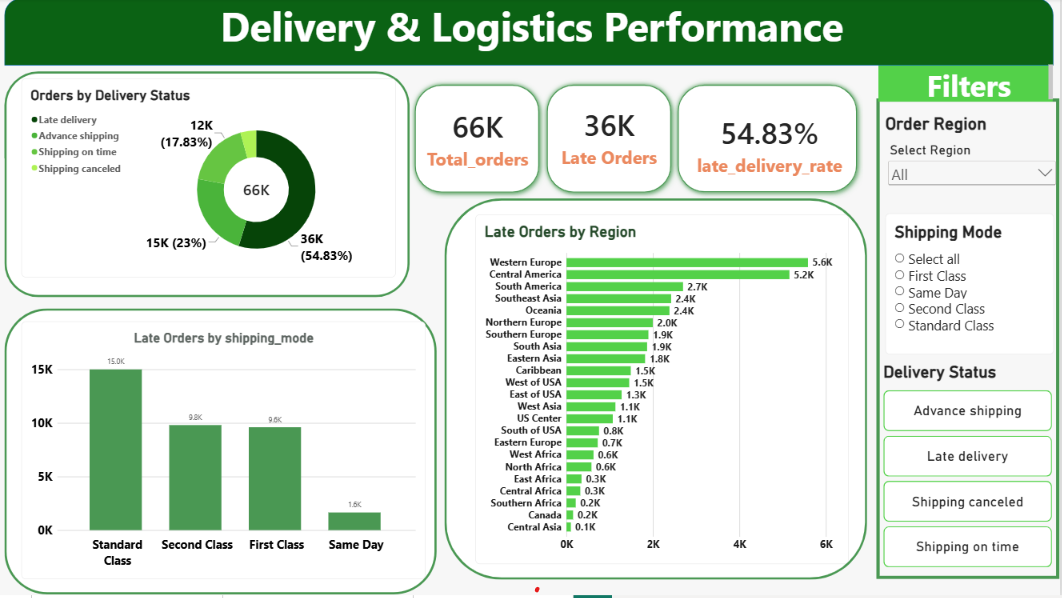

Layout of this report page (visuals, bound fields, positions):
{"tool":"powerbi","page":{"name":"Delivery_Performance","canvas":[1920,1080],"ordinal":3},"visuals":[{"type":"shape","title":"Filters","box":[1588.5,181.8,331.1,870],"z":0},{"type":"shape","box":[1592.5,120,315,67.5],"z":1000},{"type":"shape","box":[1217.5,145,347.5,217.5],"z":2000},{"type":"shape","box":[980.5,143.9,248.4,218.2],"z":3000},{"type":"shape","box":[11.6,132.3,733.5,408.5],"z":4000},{"type":"shape","box":[10.9,0,1898.3,121.2],"z":5000},{"type":"textbox","box":[10.9,0,1909.2,106.8],"z":6000},{"type":"shape","box":[742.8,143.9,248.4,218.2],"z":7000},{"type":"card","fields":{"Values":["supply_chain customers.Total_orders"]},"box":[757.4,175.9,218.2,150.9],"z":8000},{"type":"card","fields":{"Values":["supply_chain shipping.Late Orders"]},"box":[1002.4,173.2,205.6,150],"z":9000},{"type":"card","fields":{"Values":["supply_chain shipping.late_delivery_rate"]},"box":[1227.5,187.5,337.5,150],"z":10000},{"type":"shape","box":[11.6,561.7,782.2,517.6],"z":11000},{"type":"columnChart","fields":{"Category":["supply_chain shipping.shipping_mode"],"Y":["supply_chain shipping.Late Orders"]},"box":[41.8,584.9,731.2,466.5],"z":12000},{"type":"shape","box":[807.5,362.5,765,690],"z":13000},{"type":"barChart","title":"Late Orders by Region","fields":{"Category":["supply_chain orders.order_region"],"Y":["supply_chain shipping.Late Orders"]},"box":[862.5,390,675,632.5],"z":14000},{"type":"donutChart","title":"Orders by Delivery Status","fields":{"Category":["supply_chain shipping.delivery_status"],"Y":["supply_chain customers.Total_orders"]},"box":[41.8,143.9,677.8,359.8],"z":15000},{"type":"listSlicer","title":"Shipping Mode","fields":{"Values":["supply_chain shipping.shipping_mode"]},"box":[1605.8,389.5,305.1,255.4],"z":16000},{"type":"slicer","title":"Order Region","fields":{"Values":["supply_chain orders.order_region"]},"box":[1605.8,207.8,313.8,181.8],"z":17000},{"type":"advancedSlicerVisual","title":"Delivery Status","fields":{"Values":["supply_chain shipping.delivery_status"]},"box":[1601.5,657.9,305.1,374.4],"z":18000},{"type":"textbox","box":[1610,120,297.5,67.5],"z":19000}]}

Visuals, with their boxes in screenshot pixels (x1, y1, x2, y2), scaled from the page's 1920x1080 canvas onto the 1062x598 screenshot:
"Filters" shape: x1=879, y1=101, x2=1061, y2=582
shape: x1=881, y1=66, x2=1055, y2=104
shape: x1=673, y1=80, x2=866, y2=201
shape: x1=542, y1=80, x2=680, y2=200
shape: x1=6, y1=73, x2=412, y2=299
shape: x1=6, y1=0, x2=1056, y2=67
textbox: x1=6, y1=0, x2=1061, y2=59
shape: x1=411, y1=80, x2=548, y2=200
card - supply_chain customers.Total_orders: x1=419, y1=97, x2=540, y2=181
card - supply_chain shipping.Late Orders: x1=554, y1=96, x2=668, y2=179
card - supply_chain shipping.late_delivery_rate: x1=679, y1=104, x2=866, y2=187
shape: x1=6, y1=311, x2=439, y2=597
columnChart - supply_chain shipping.shipping_mode x supply_chain shipping.Late Orders: x1=23, y1=324, x2=428, y2=582
shape: x1=447, y1=201, x2=870, y2=583
"Late Orders by Region" barChart: x1=477, y1=216, x2=850, y2=566
"Orders by Delivery Status" donutChart: x1=23, y1=80, x2=398, y2=279
"Shipping Mode" listSlicer: x1=888, y1=216, x2=1057, y2=357
"Order Region" slicer: x1=888, y1=115, x2=1061, y2=216
"Delivery Status" advancedSlicerVisual: x1=886, y1=364, x2=1055, y2=572
textbox: x1=891, y1=66, x2=1055, y2=104
